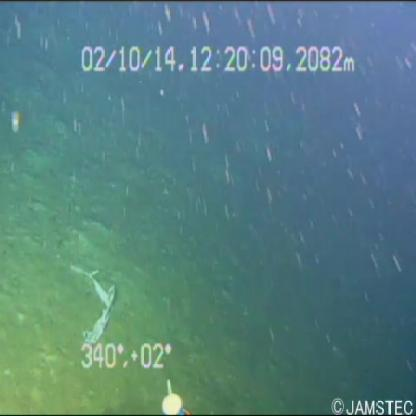Rov: (152, 374, 194, 416)
Rác: (60, 252, 120, 350)
